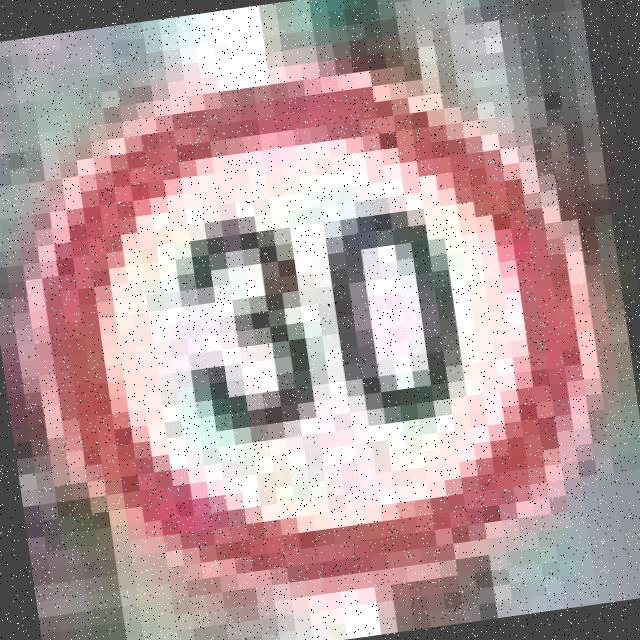Ograniczenie predkosci do 30: (0, 17, 589, 615)
